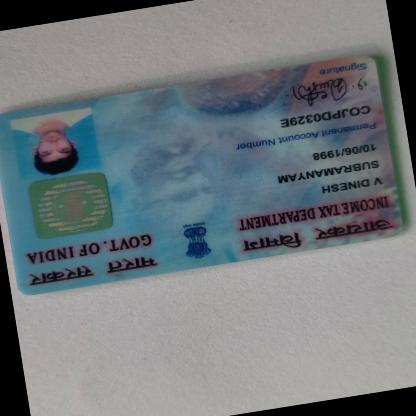pan_card: (0, 49, 406, 298)
